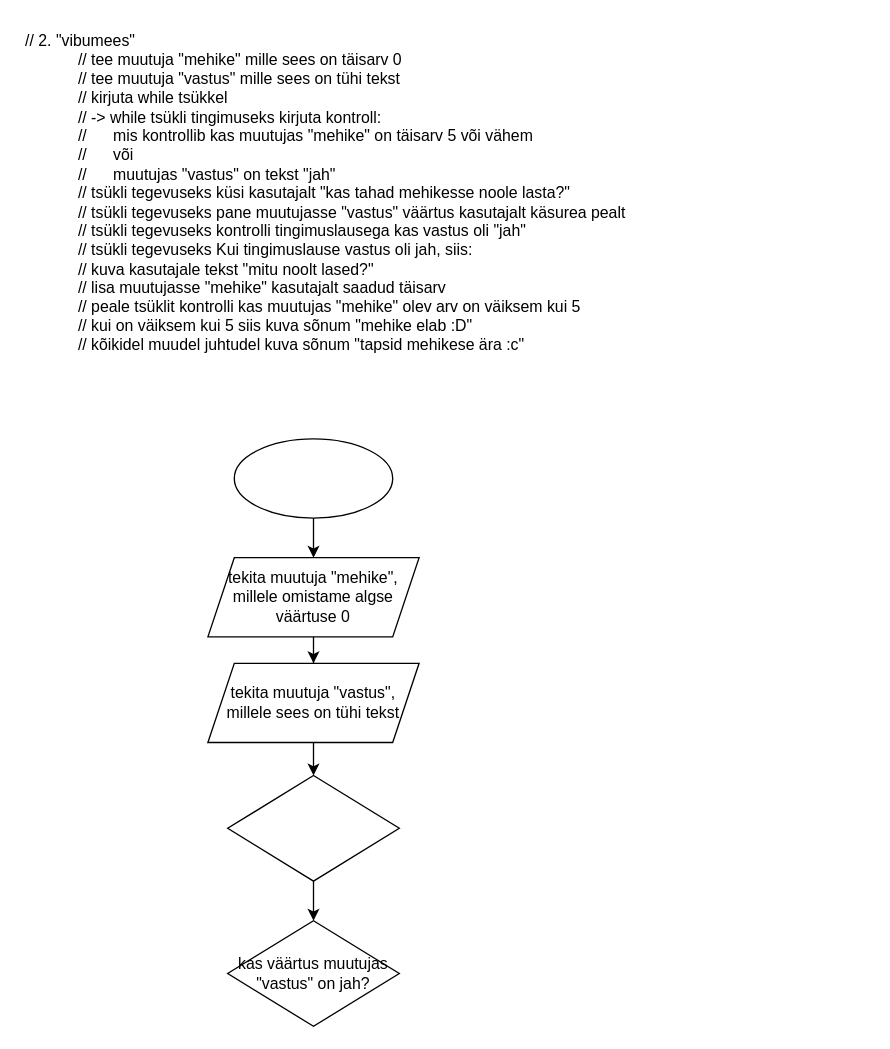
This 890x1049 diagram has some shape labels left out. The centre of each missing label's shape, as x and y in pixels:
algus: (313,478)
kas väärtus muutujas "mehike" on suurem või võrdne 5-ga?: (312,827)
